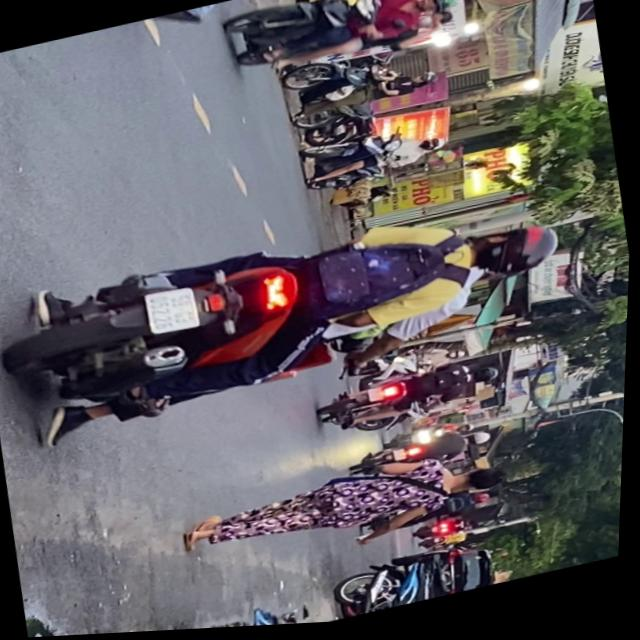helmet: (469, 219, 566, 289), (416, 0, 462, 19), (422, 137, 450, 155), (412, 73, 437, 90)
licenseplate: (0, 176, 581, 453), (219, 0, 468, 85), (278, 38, 444, 137), (298, 118, 455, 200)
motorcyclist: (416, 12, 455, 35)
nohelmet: (147, 285, 202, 336)
